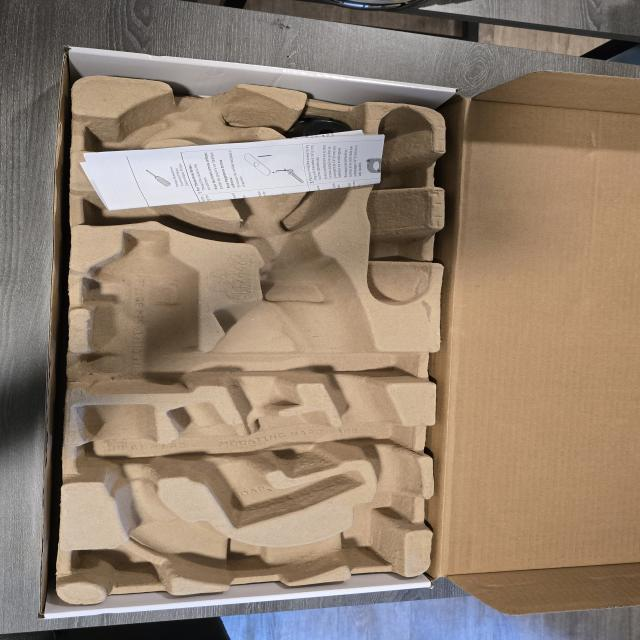1m: (77, 83, 420, 584)
2m: (171, 401, 364, 527)
3m: (87, 228, 200, 393)
4m: (368, 107, 434, 304)
5o: (285, 119, 358, 158)
6m: (84, 105, 171, 161)
7m: (80, 175, 200, 227)
8: (79, 128, 387, 210)
